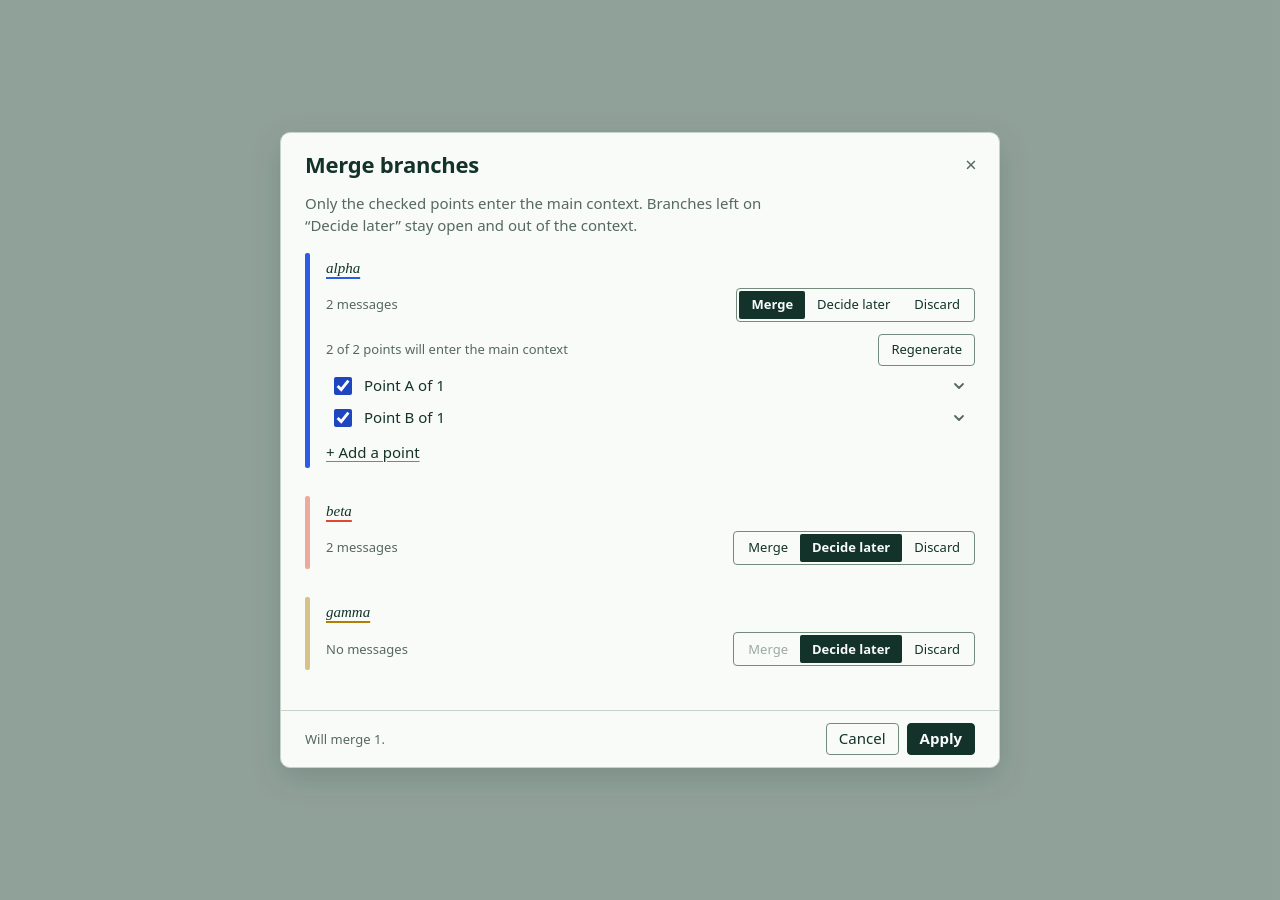
MergeDialog › saves an edited text on blur and offers to reset it
Later steps or results of the test are not shown.
Click the button named "Show the text of “Point B of 1”" at (959, 418), box [943,402,975,434]
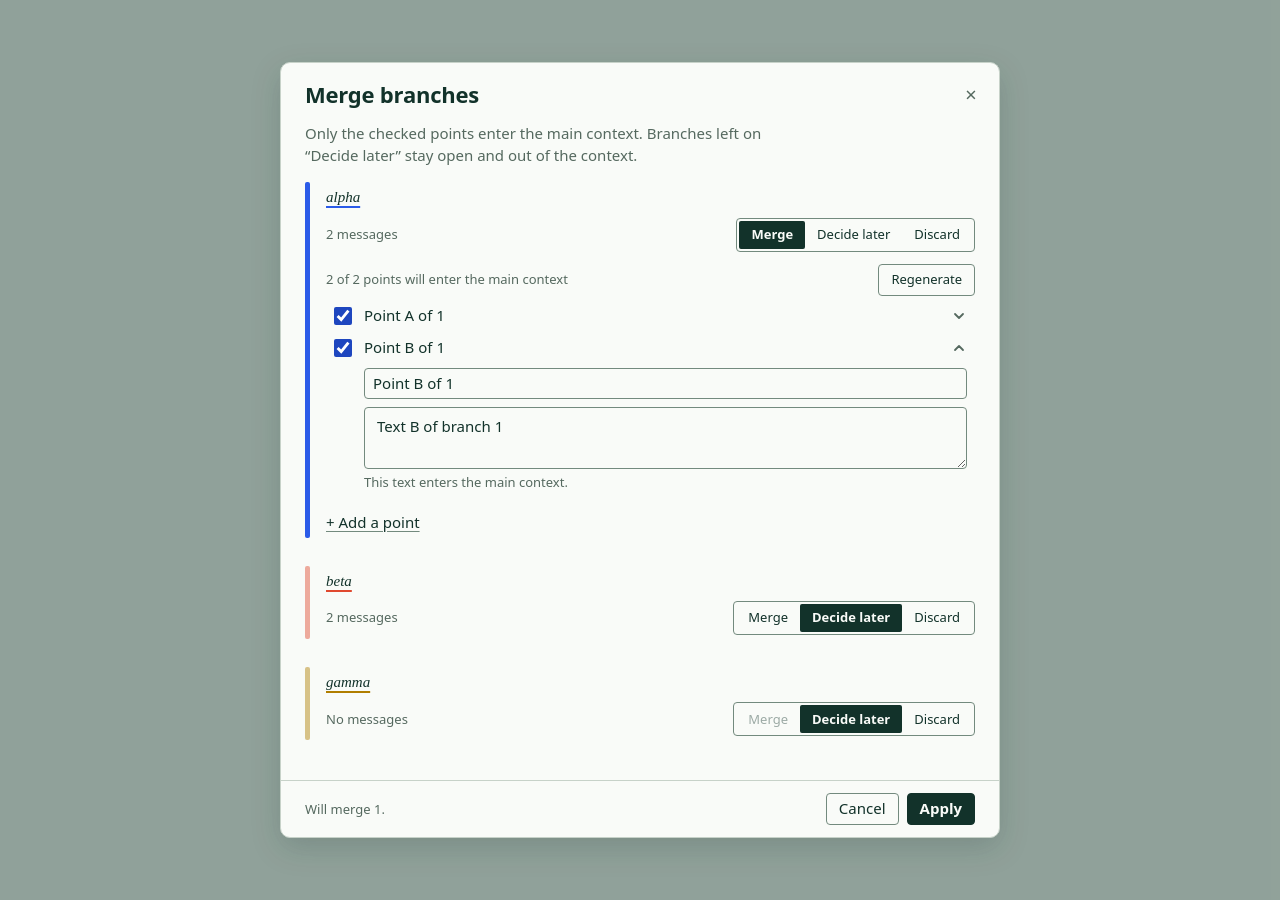
Replace the text in the text box named "Text of “Point B of 1” that enters the context" with "My own wording" at (666, 438), box [364,408,967,469]
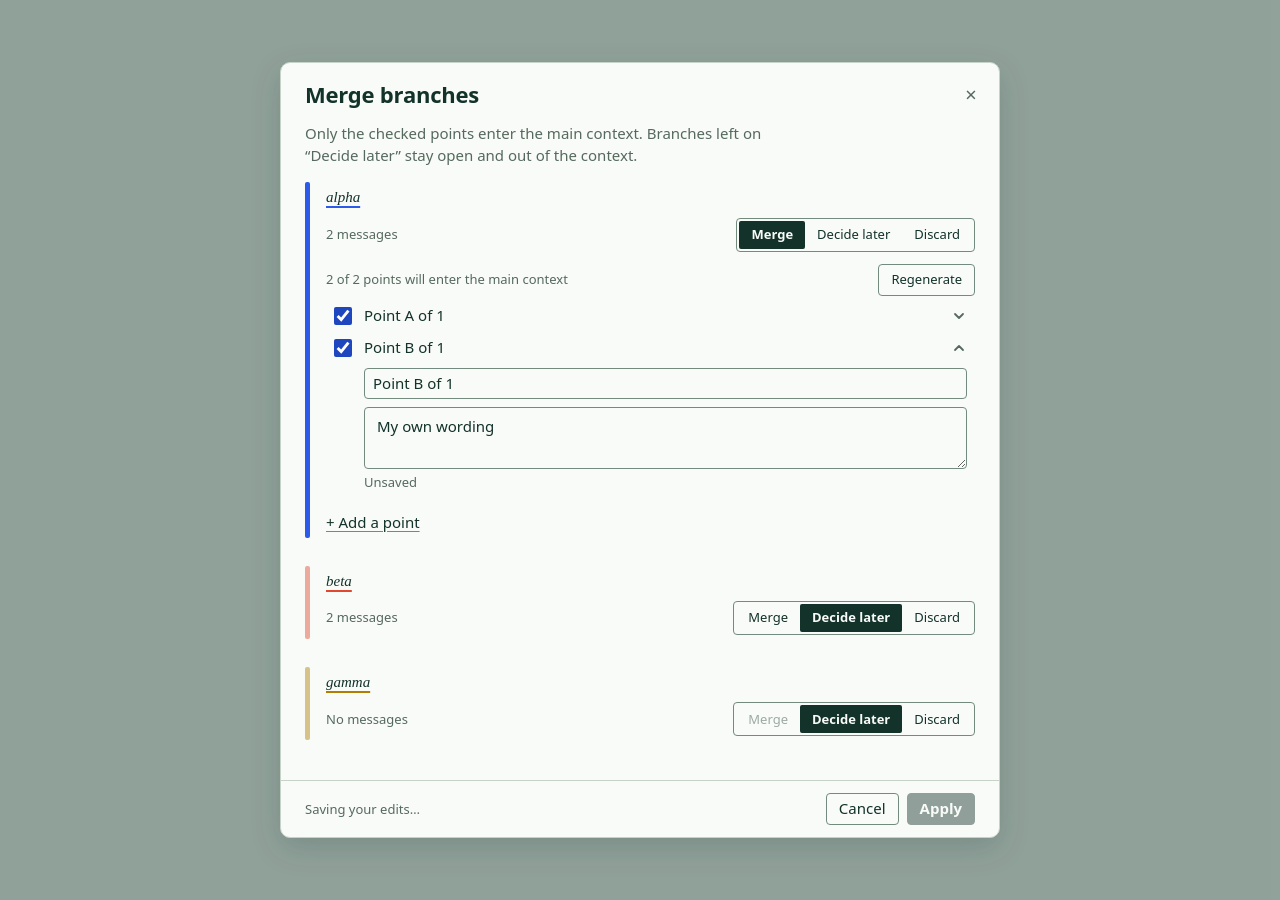
expect the button "Apply" is disabled: met, box [906,793,975,825]
Leave the text box named "Text of “Point B of 1” that enters the context", box [364,408,967,469]
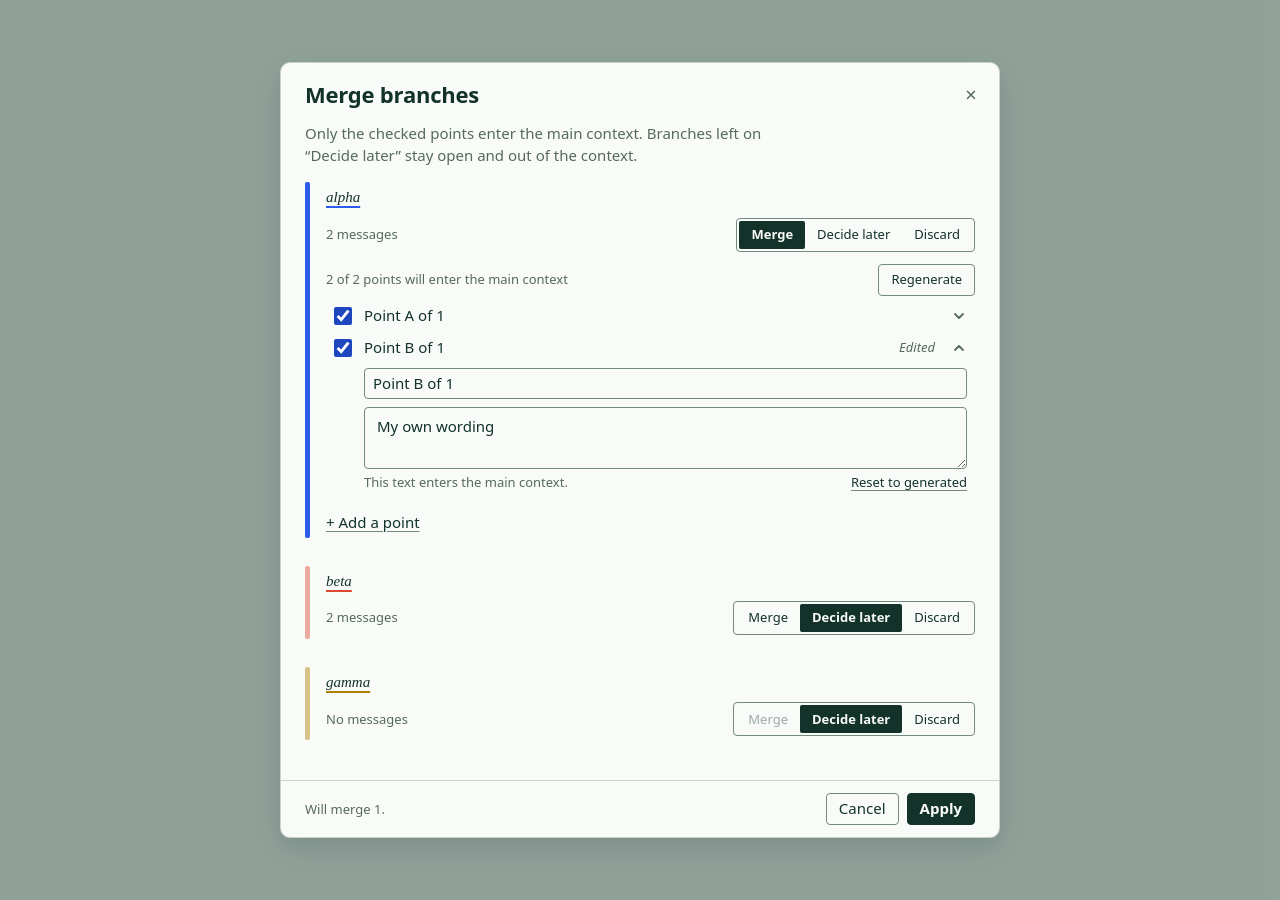
expect the button "Apply" is enabled: met, box [906,793,975,825]
